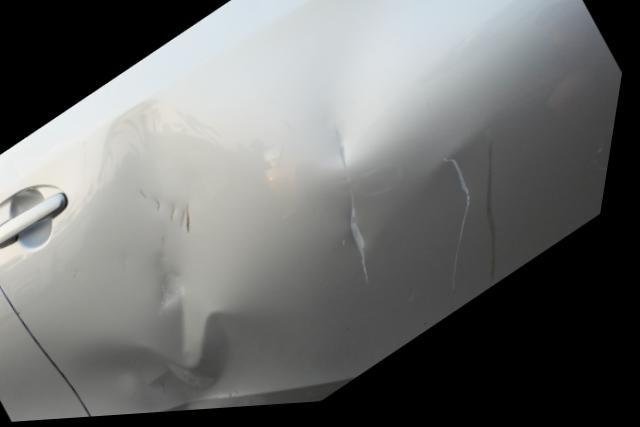dent: (76, 0, 505, 417)
scratch: (447, 159, 480, 291), (490, 149, 506, 297), (355, 198, 378, 294)
